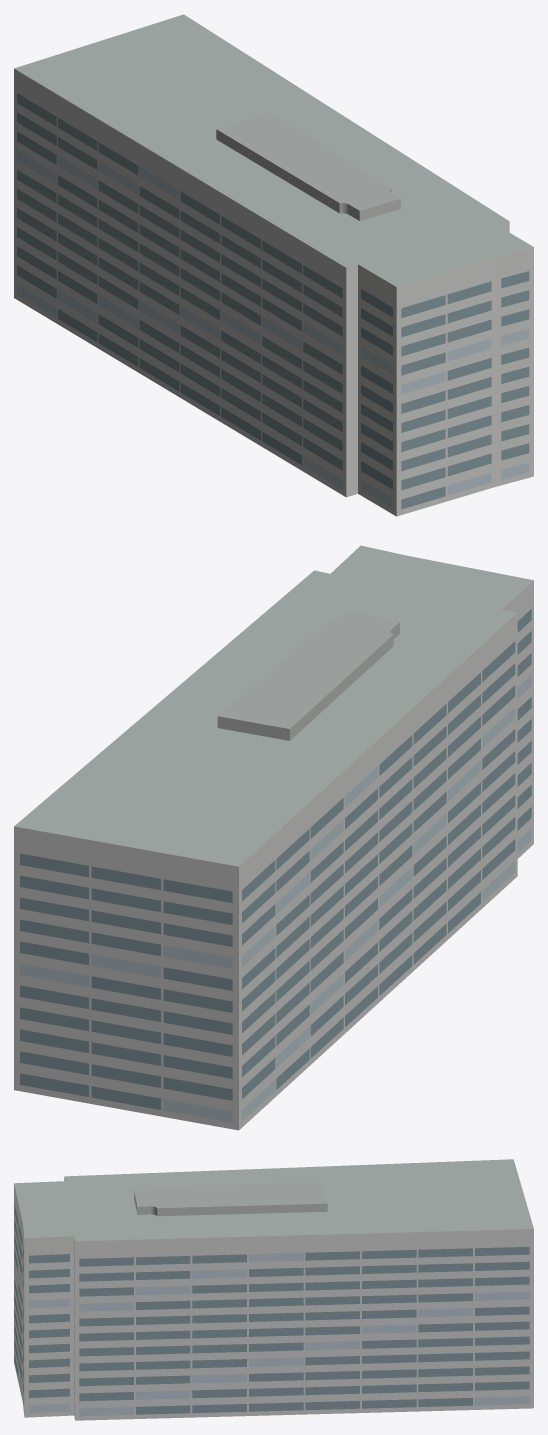
File: named-apt-8e6cb9cd-66d7-4af5-9492-fd40cf078eba.glb
3 renders of one model, top to bottom at view 1: azimuth 30°, elevation 25°; view 2: azimuth 150°, elevation 25°; view 3: azimuth 270°, elevation 25°, orthographic. The views are drawn at different scales.
Parts seen in each view (by area): view 1: named-apt-8e6cb9cd-66d7-4af5-9492-fd40cf078eba; view 2: named-apt-8e6cb9cd-66d7-4af5-9492-fd40cf078eba; view 3: named-apt-8e6cb9cd-66d7-4af5-9492-fd40cf078eba.
Boxes of the visible parts, x1,y1,x2,y2 form: named-apt-8e6cb9cd-66d7-4af5-9492-fd40cf078eba: (14,14,533,516); named-apt-8e6cb9cd-66d7-4af5-9492-fd40cf078eba: (14,545,533,1130); named-apt-8e6cb9cd-66d7-4af5-9492-fd40cf078eba: (14,1159,533,1420).
Bounding box in the file's own units: 35.89 × 38.25 × 96.14.
